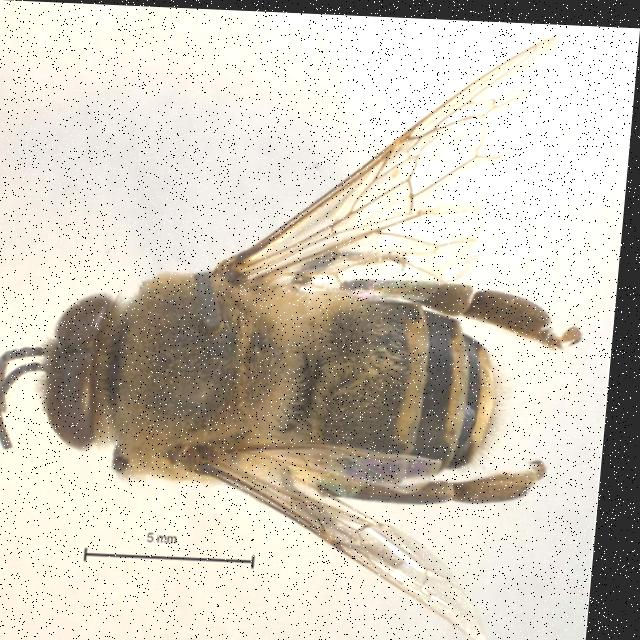Apis-mellifera-scutellata: (0, 1, 615, 640)
